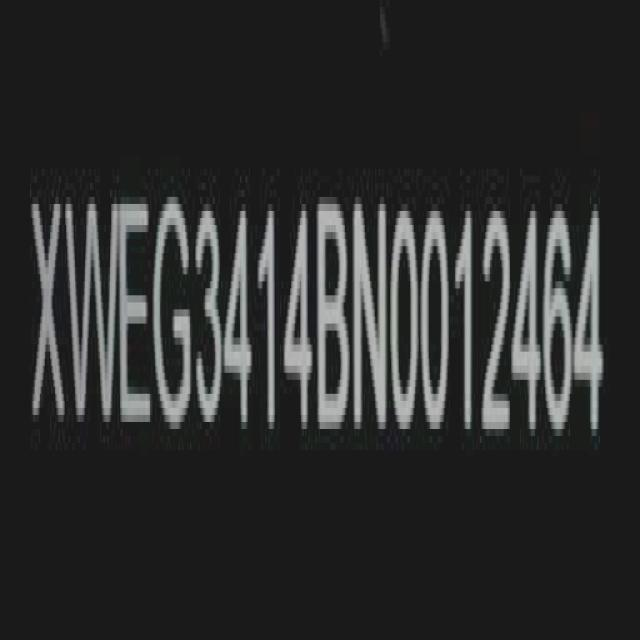0: (422, 207, 450, 438), (393, 210, 421, 438)
1: (258, 198, 278, 437), (456, 204, 476, 441)
2: (482, 212, 512, 444)
3: (195, 202, 225, 434)
4: (284, 197, 316, 439), (514, 204, 542, 443), (224, 204, 252, 440), (575, 215, 603, 442)
6: (542, 205, 572, 440)
B: (319, 196, 351, 440)
E: (118, 195, 153, 436)
G: (154, 192, 194, 434)
N: (354, 195, 390, 440)
W: (72, 189, 119, 436)
X: (32, 192, 66, 440)
